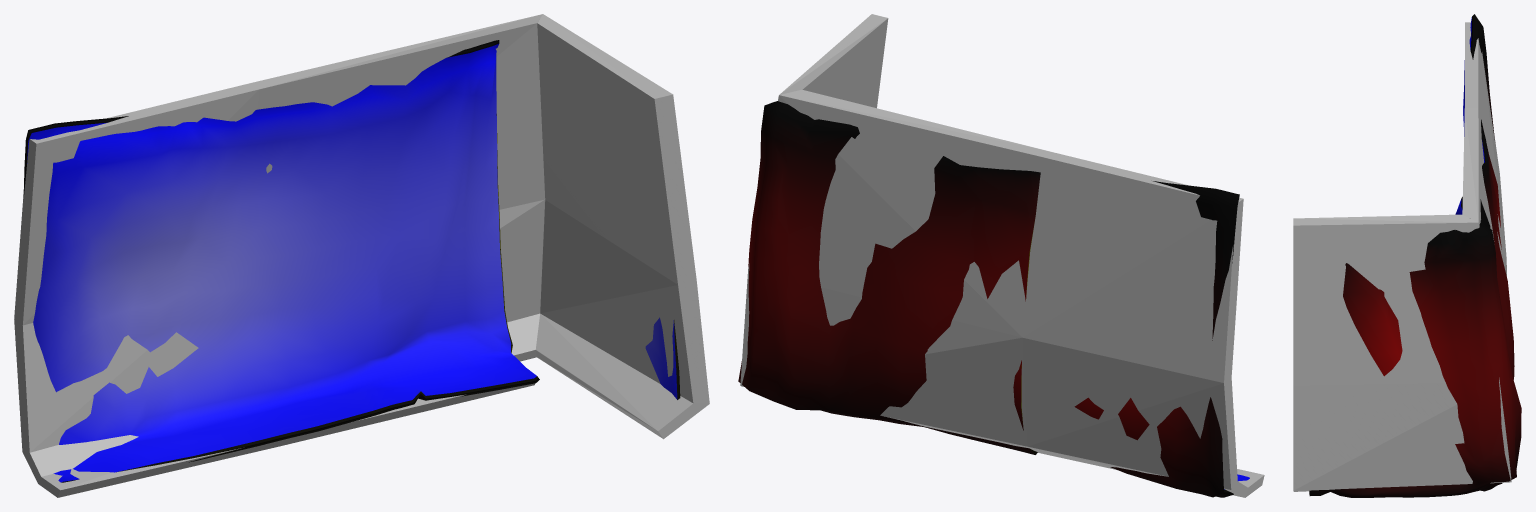
Rendered from Tent_07_Mesh.fbx.
3 views of the same model, side by side, from view 1: azimuth 30°, elevation 25°; view 2: azimuth 150°, elevation 25°; view 3: azimuth 270°, elevation 25° (orthographic). The views are drawn at different scales.
Parts seen in each view (by area): view 1: Tent_07_LOD0, Tent_07_COL_08, Tent_07_COL_06, Tent_07_COL_00, Tent_07_COL_01, Tent_07_COL_03, Tent_07_COL_07, Tent_07_COL_02, Tent_07_COL_10, Tent_07_COL_04, Tent_07_COL_05, Tent_07_COL_09; view 2: Tent_07_LOD0, Tent_07_COL_01, Tent_07_COL_00, Tent_07_COL_03, Tent_07_COL_02, Tent_07_COL_08, Tent_07_COL_04; view 3: Tent_07_LOD0, Tent_07_COL_08, Tent_07_COL_06, Tent_07_COL_00, Tent_07_COL_01.
Boxes of the visible parts, x1,y1,x2,y2 form: Tent_07_LOD0: [23, 40, 680, 482]; Tent_07_COL_08: [537, 14, 696, 284]; Tent_07_COL_06: [540, 200, 709, 403]; Tent_07_COL_00: [251, 14, 545, 209]; Tent_07_COL_01: [14, 83, 259, 325]; Tent_07_COL_03: [14, 319, 198, 452]; Tent_07_COL_07: [535, 313, 709, 439]; Tent_07_COL_02: [499, 199, 545, 322]; Tent_07_COL_10: [38, 440, 281, 497]; Tent_07_COL_04: [22, 435, 138, 483]; Tent_07_COL_05: [280, 383, 535, 446]; Tent_07_COL_09: [507, 313, 539, 361]; Tent_07_LOD0: [738, 101, 1249, 497]; Tent_07_COL_01: [1022, 150, 1243, 382]; Tent_07_COL_00: [748, 89, 1045, 337]; Tent_07_COL_03: [1022, 338, 1237, 489]; Tent_07_COL_02: [740, 269, 1027, 446]; Tent_07_COL_08: [779, 14, 888, 108]; Tent_07_COL_04: [1028, 447, 1247, 497]; Tent_07_LOD0: [1309, 14, 1521, 497]; Tent_07_COL_08: [1293, 214, 1499, 385]; Tent_07_COL_06: [1293, 382, 1511, 490]; Tent_07_COL_00: [1462, 108, 1506, 272]; Tent_07_COL_01: [1465, 22, 1506, 257].
Size of what is drawn, in the model's own units: 400 by 238 by 177.
